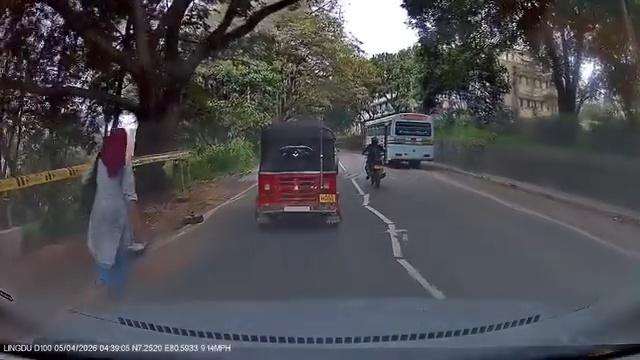illegal overtaking: (361, 133, 393, 190)
